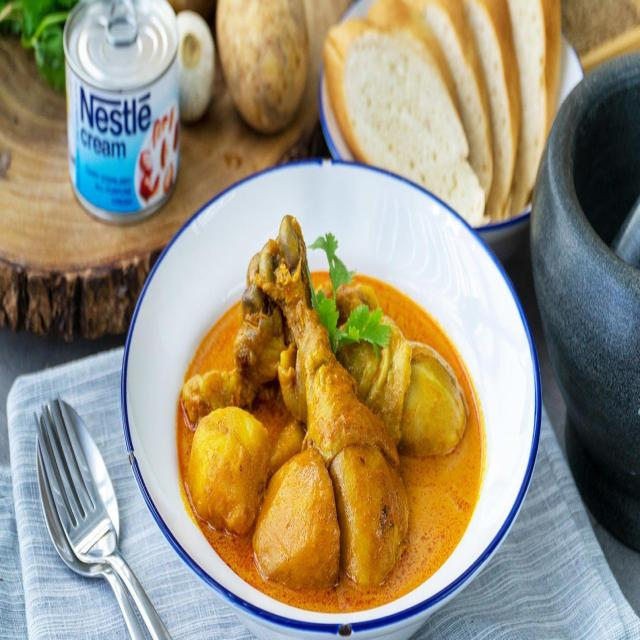chicken: (179, 228, 485, 613)
